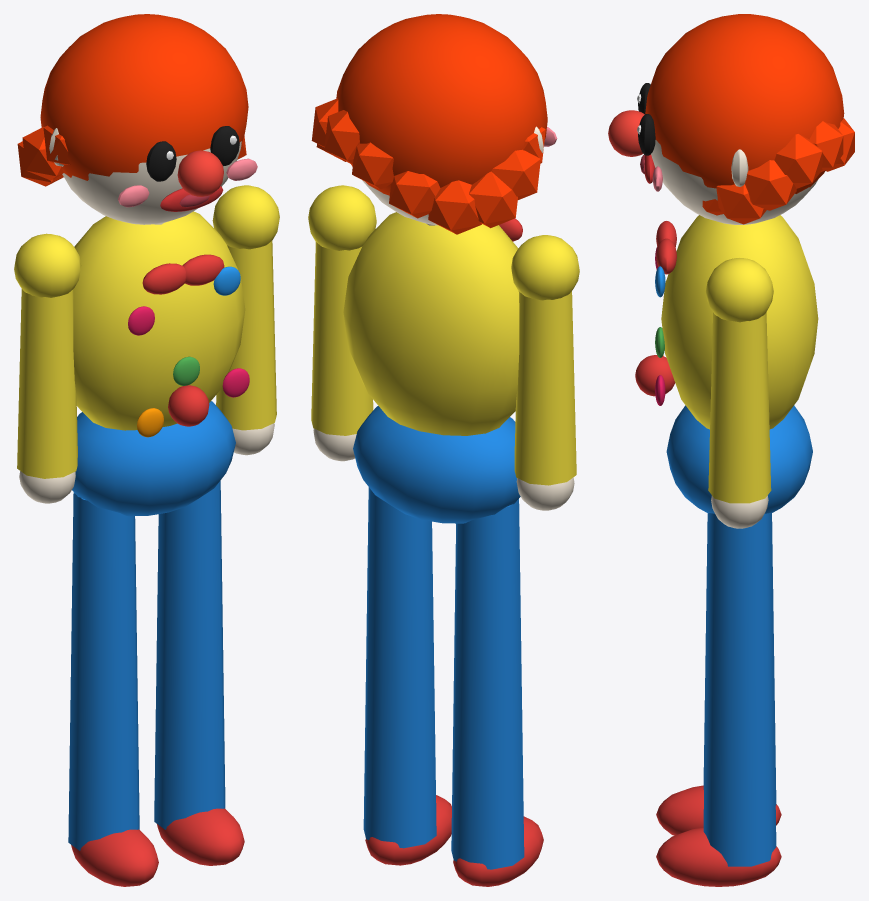
The model's file is cameos_clown.glb.
The picture shows the model from 3 angles, left to right: view 1: azimuth 30°, elevation 25°; view 2: azimuth 150°, elevation 25°; view 3: azimuth 270°, elevation 25°; orthographic projection. The views are drawn at different scales.
Visible parts, largest first — view 1: Body.019, Leg_R.019, Leg_L.019, Arm_R.019, Arm_L.019, CameosClownExtra; view 2: Body.019, Leg_R.019, Leg_L.019, Arm_R.019, Arm_L.019; view 3: Body.019, Leg_L.019, Arm_L.019, CameosClownExtra, Leg_R.019.
Part boxes in pixels (x1=…): Body.019: x1=17, y1=14, x2=257, y2=516; Leg_R.019: x1=68, y1=492, x2=158, y2=886; Leg_L.019: x1=154, y1=480, x2=244, y2=865; Arm_R.019: x1=14, y1=233, x2=81, y2=503; Arm_L.019: x1=212, y1=185, x2=279, y2=455; CameosClownExtra: x1=128, y1=150, x2=249, y2=437; Body.019: x1=311, y1=14, x2=557, y2=523; Leg_R.019: x1=451, y1=499, x2=543, y2=886; Leg_L.019: x1=363, y1=487, x2=451, y2=865; Arm_R.019: x1=511, y1=235, x2=579, y2=510; Arm_L.019: x1=308, y1=185, x2=376, y2=461; Body.019: x1=637, y1=14, x2=854, y2=513; Leg_L.019: x1=656, y1=513, x2=781, y2=886; Arm_L.019: x1=706, y1=258, x2=773, y2=528; CameosClownExtra: x1=608, y1=110, x2=675, y2=405; Leg_R.019: x1=656, y1=513, x2=781, y2=835.
Bounding box in the file's own units: 0.57 × 1.77 × 0.4716.
